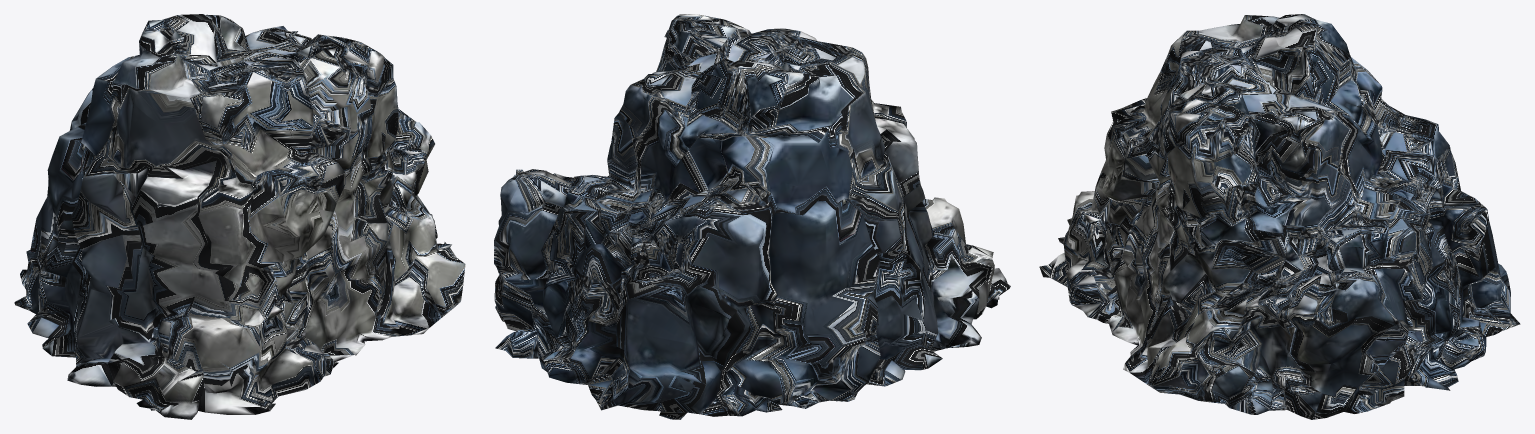
Rendered from snowrock-mid.glb.
3 renders of one model, left to right at view 1: azimuth 30°, elevation 25°; view 2: azimuth 150°, elevation 25°; view 3: azimuth 270°, elevation 25°, orthographic. The views are drawn at different scales.
Bounding box in the file's own units: 0.9856 × 0.6235 × 0.9978.
Materials: 1 (1 with a texture image).
